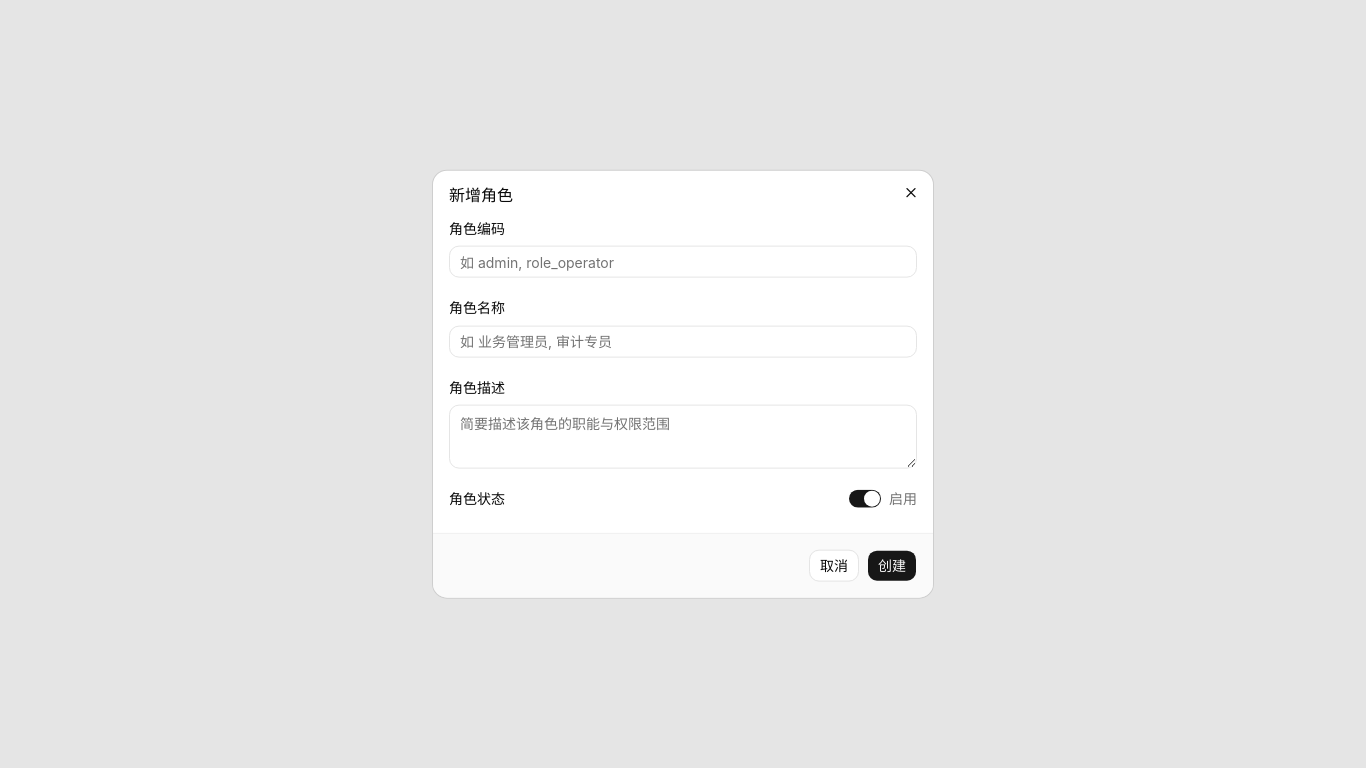
Test case: RoleFormModal (RBAC 角色 新增/编辑弹窗) › 表单校验拦截 - 角色编码或角色名称为空时不发起请求
The width and height of the screenshot is (1366, 768).
Click the button "创建" at (892, 565), box 867,549 -> 917,581
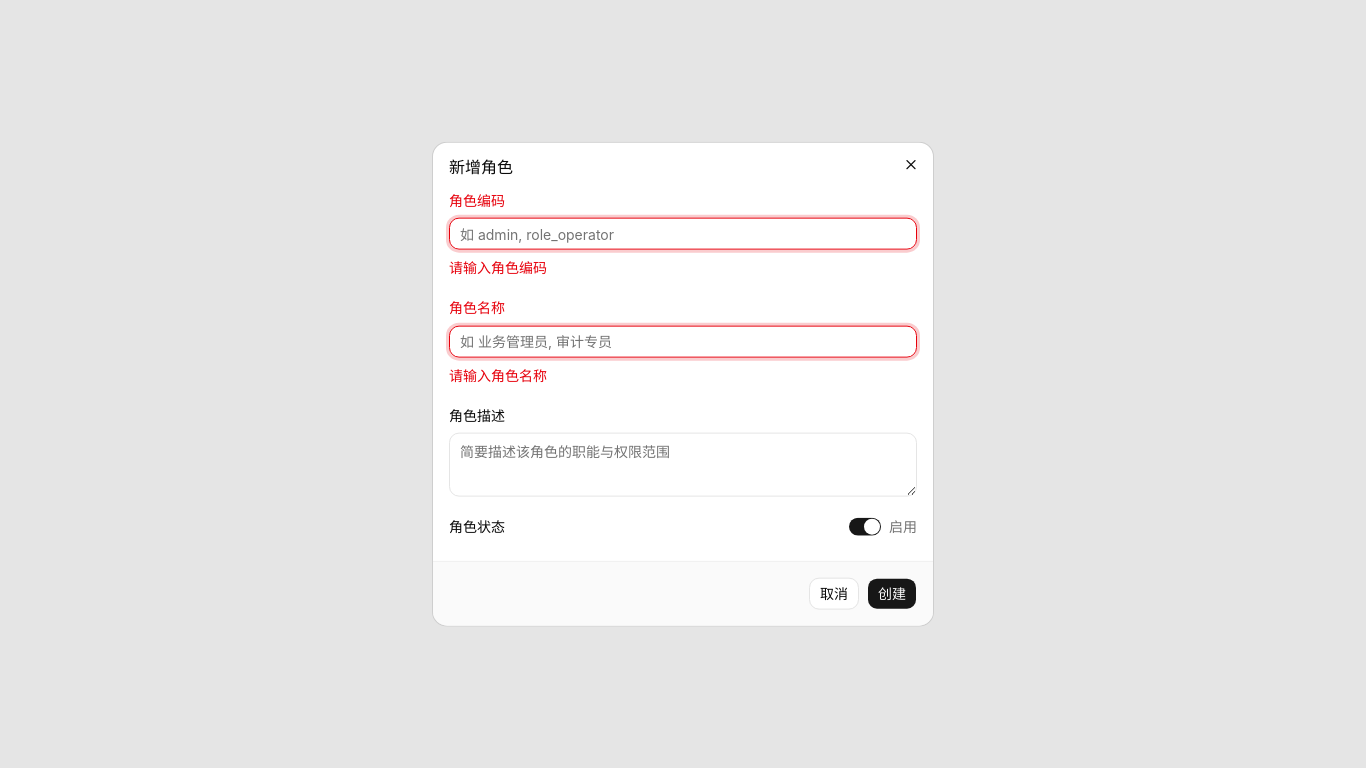
Check: the text "请输入角色编码" is shown, box 449,259 -> 547,276
Check: the text "请输入角色名称" is shown, box 449,366 -> 547,383
